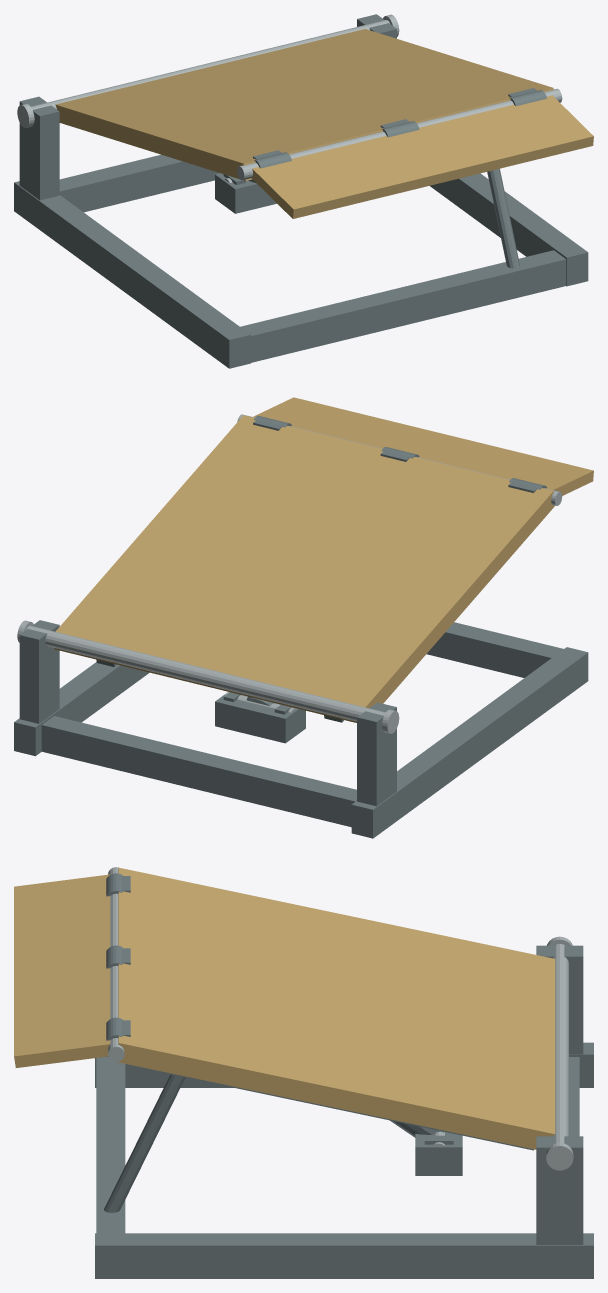
3 renders of one model, top to bottom at view 1: azimuth 30°, elevation 25°; view 2: azimuth 150°, elevation 25°; view 3: azimuth 270°, elevation 25°, orthographic. The views are drawn at different scales.
Visible parts, largest first — view 1: WholeInclinedDeck, WholeIndependentFrontLip, WholePitCrossRail_-0.89, WholePitSideRail_-1, WholePitSideRail_1, WholePitCrossRail_0.84, WholeRearPivotTower_-1, WholeRearPivotAxle, WholeLipHingeAxle, WholeCentralCylinderBase, WholeFixedSafetyProp, WholeRearPivotTower_1; view 2: WholeInclinedDeck, WholePitCrossRail_0.84, WholePitSideRail_-1, WholeIndependentFrontLip, WholeRearPivotAxle, WholePitCrossRail_-0.89, WholePitSideRail_1, WholeRearPivotTower_1, WholeRearPivotTower_-1, WholeCentralCylinderBase; view 3: WholeInclinedDeck, WholePitSideRail_1, WholeIndependentFrontLip, WholePitCrossRail_-0.89, WholeRearPivotTower_1, WholeRearPivotAxle, WholeFixedSafetyProp, WholeRearPivotTower_-1, WholePitSideRail_-1, WholeCentralCylinderBase, WholeLipHingeAxle, WholePitCrossRail_0.84 (+2 smaller).
Part boxes in pixels (x1=…): WholeInclinedDeck: x1=55, y1=29, x2=553, y2=180; WholeIndependentFrontLip: x1=251, y1=95, x2=593, y2=218; WholePitCrossRail_-0.89: x1=240, y1=250, x2=566, y2=362; WholePitSideRail_-1: x1=14, y1=181, x2=250, y2=368; WholePitSideRail_1: x1=430, y1=173, x2=588, y2=286; WholePitCrossRail_0.84: x1=59, y1=154, x2=219, y2=212; WholeRearPivotTower_-1: x1=19, y1=96, x2=59, y2=200; WholeRearPivotAxle: x1=31, y1=20, x2=389, y2=109; WholeLipHingeAxle: x1=237, y1=88, x2=562, y2=180; WholeCentralCylinderBase: x1=215, y1=173, x2=276, y2=213; WholeFixedSafetyProp: x1=487, y1=168, x2=519, y2=268; WholeRearPivotTower_1: x1=357, y1=14, x2=396, y2=38; WholeInclinedDeck: x1=54, y1=415, x2=554, y2=722; WholePitCrossRail_0.84: x1=41, y1=716, x2=356, y2=827; WholePitSideRail_-1: x1=351, y1=647, x2=588, y2=838; WholeIndependentFrontLip: x1=253, y1=397, x2=593, y2=495; WholeRearPivotAxle: x1=26, y1=625, x2=385, y2=721; WholePitCrossRail_-0.89: x1=426, y1=622, x2=563, y2=677; WholePitSideRail_1: x1=14, y1=662, x2=149, y2=756; WholeRearPivotTower_1: x1=19, y1=620, x2=59, y2=723; WholeRearPivotTower_-1: x1=357, y1=702, x2=396, y2=806; WholeCentralCylinderBase: x1=215, y1=694, x2=305, y2=743; WholeInclinedDeck: x1=117, y1=867, x2=555, y2=1149; WholePitSideRail_1: x1=95, y1=1233, x2=593, y2=1278; WholeIndependentFrontLip: x1=14, y1=874, x2=110, y2=1067; WholePitCrossRail_-0.89: x1=96, y1=1057, x2=125, y2=1233; WholeRearPivotTower_1: x1=536, y1=1136, x2=583, y2=1244; WholeRearPivotAxle: x1=553, y1=944, x2=568, y2=1143; WholeFixedSafetyProp: x1=104, y1=1074, x2=184, y2=1212; WholeRearPivotTower_-1: x1=536, y1=945, x2=583, y2=1054; WholePitSideRail_-1: x1=95, y1=1042, x2=593, y2=1087; WholeCentralCylinderBase: x1=415, y1=1132, x2=462, y2=1175; WholeLipHingeAxle: x1=108, y1=867, x2=124, y2=1061; WholePitCrossRail_0.84: x1=569, y1=1057, x2=579, y2=1136.
Bounding box in the file's own units: 1.89 × 0.9375 × 2.21.
